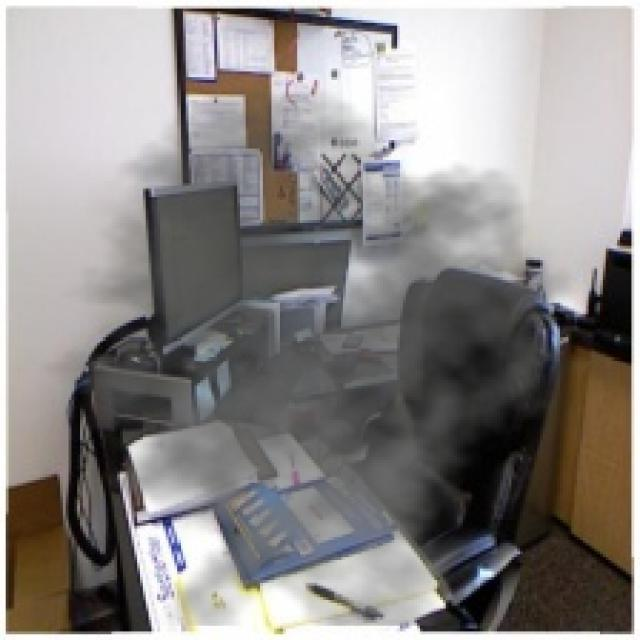Smoke: (17, 85, 580, 626)
